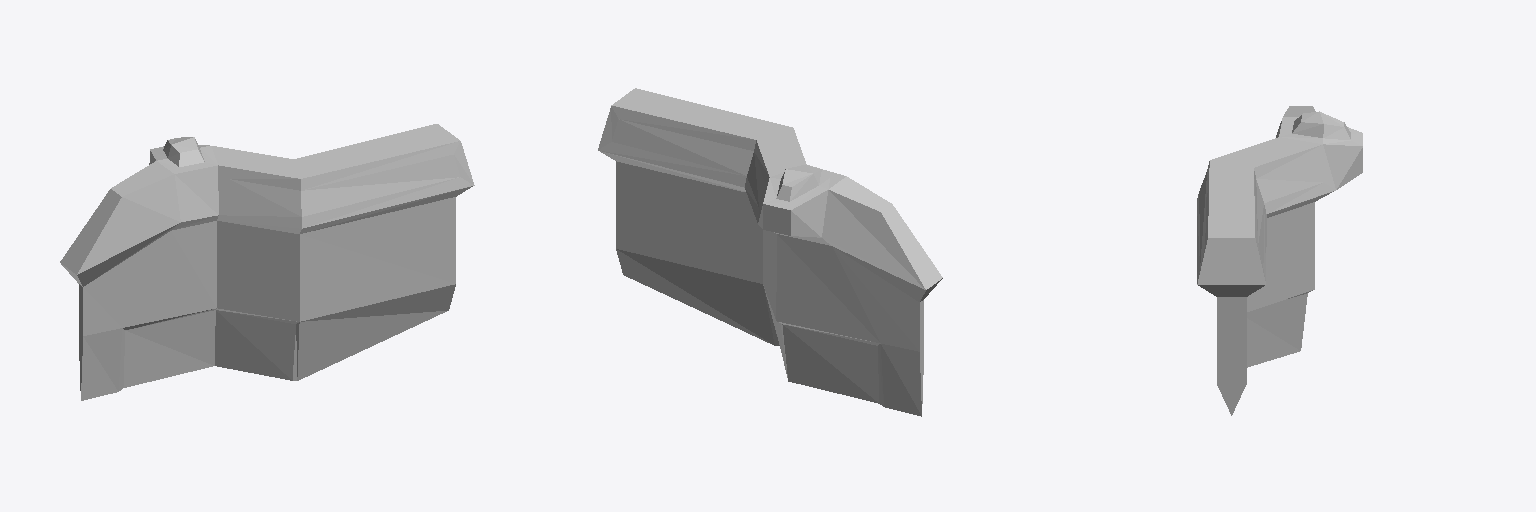
Rendered from SpaceRanger_Jetpack_WingRight.obj.
3 views of the same model, side by side, from view 1: azimuth 30°, elevation 25°; view 2: azimuth 150°, elevation 25°; view 3: azimuth 270°, elevation 25° (orthographic).
Visible parts, largest first — view 1: SpaceRanger_Jetpack_WingRight; view 2: SpaceRanger_Jetpack_WingRight; view 3: SpaceRanger_Jetpack_WingRight.
Part boxes in pixels (bbox=[...]): SpaceRanger_Jetpack_WingRight: bbox=[60, 124, 474, 400]; SpaceRanger_Jetpack_WingRight: bbox=[598, 88, 942, 416]; SpaceRanger_Jetpack_WingRight: bbox=[1197, 106, 1362, 415].
Bounding box in the file's own units: 0.7994 × 0.4861 × 0.3251.